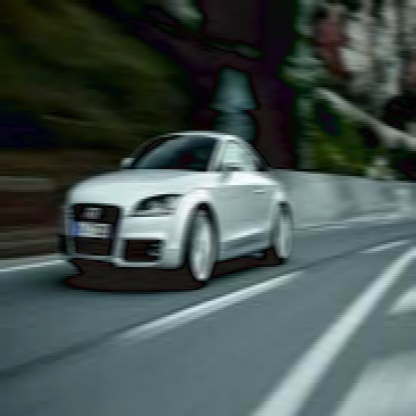Vehicle: (54, 123, 292, 298)
